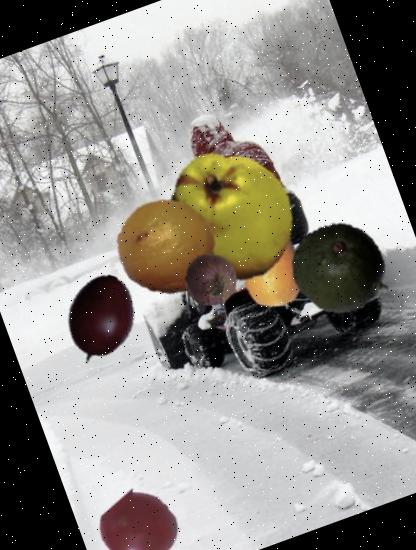Avocado: (280, 206, 404, 330)
Kumquats: (217, 212, 326, 321)
Lemon: (102, 183, 228, 309)
Onion: (175, 244, 248, 317)
Quince: (141, 130, 315, 303)
Redcurrant: (91, 481, 186, 550)
Tamarillo: (42, 260, 160, 378)
